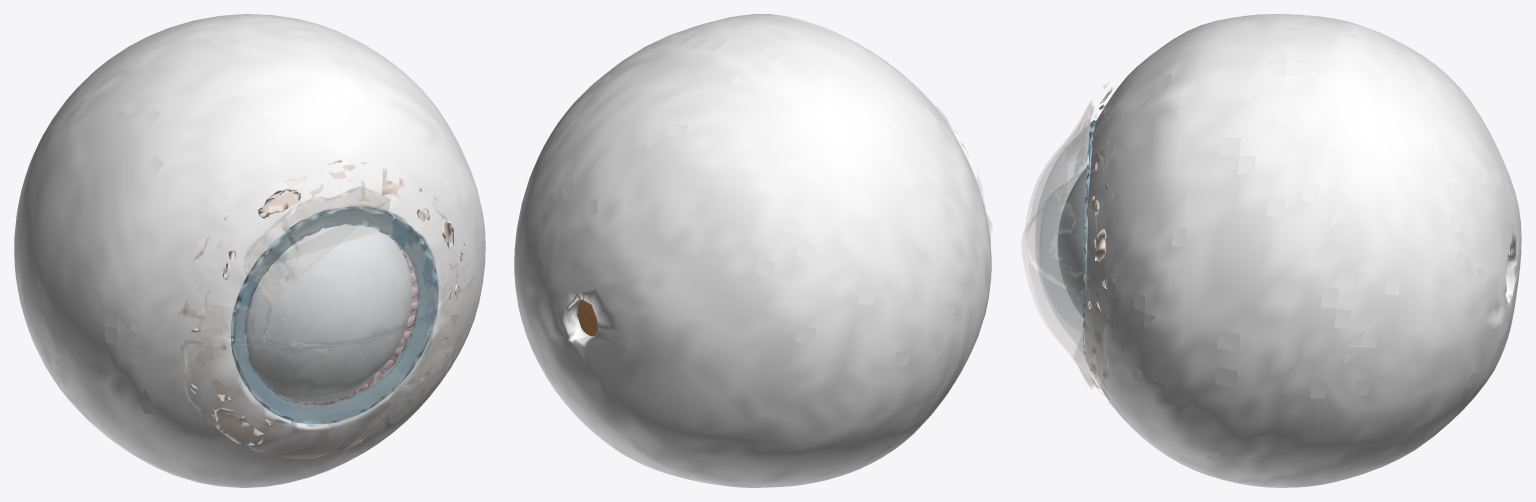
The model's file is 3d-vh-m-eye-r-80.glb.
The picture shows the model from 3 angles, left to right: view 1: azimuth 30°, elevation 25°; view 2: azimuth 150°, elevation 25°; view 3: azimuth 270°, elevation 25°; orthographic projection.
Visible parts, largest first — view 1: VH_M_sclera_R, VH_M_cornea_R, VH_M_palpebral_conjunctiva_of_lower_eyelid_R, VH_M_palpebral_conjunctiva_of_upper_eyelid_R, VH_M_aqueous_humor_R, VH_M_corneo_scleral_junction_R, VH_M_bulbar_conjunctiva_R, VH_M_ciliary_muscle_R; view 2: VH_M_sclera_R, VH_M_optic_choroid_R; view 3: VH_M_sclera_R, VH_M_cornea_R, VH_M_palpebral_conjunctiva_of_upper_eyelid_R, VH_M_palpebral_conjunctiva_of_lower_eyelid_R, VH_M_aqueous_humor_R, VH_M_bulbar_conjunctiva_R, VH_M_corneo_scleral_junction_R.
Part boxes in pixels (x1,y1,x2,y2): VH_M_sclera_R: (14, 14, 485, 487); VH_M_cornea_R: (233, 209, 438, 423); VH_M_palpebral_conjunctiva_of_lower_eyelid_R: (183, 276, 474, 458); VH_M_palpebral_conjunctiva_of_upper_eyelid_R: (197, 163, 470, 345); VH_M_aqueous_humor_R: (246, 224, 412, 402); VH_M_corneo_scleral_junction_R: (230, 206, 438, 423); VH_M_bulbar_conjunctiva_R: (177, 159, 468, 461); VH_M_ciliary_muscle_R: (302, 242, 417, 404); VH_M_sclera_R: (514, 14, 991, 487); VH_M_optic_choroid_R: (577, 300, 597, 336); VH_M_sclera_R: (1084, 14, 1521, 487); VH_M_cornea_R: (1036, 122, 1093, 354); VH_M_palpebral_conjunctiva_of_upper_eyelid_R: (1025, 81, 1109, 311); VH_M_palpebral_conjunctiva_of_lower_eyelid_R: (1022, 212, 1108, 389); VH_M_aqueous_humor_R: (1057, 168, 1087, 318); VH_M_bulbar_conjunctiva_R: (1088, 88, 1116, 405); VH_M_corneo_scleral_junction_R: (1083, 120, 1095, 354).
Size of the model in its own units: 0.0245 by 0.0244 by 0.0257.
